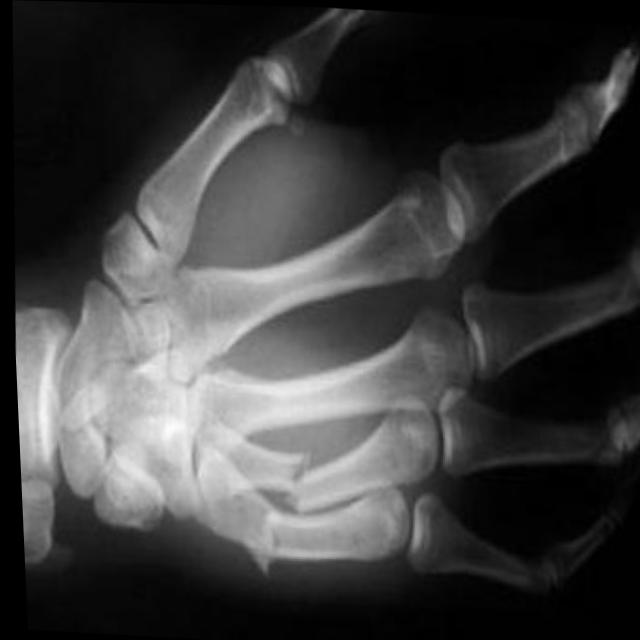fracture: (268, 433, 324, 508), (242, 503, 288, 587)
